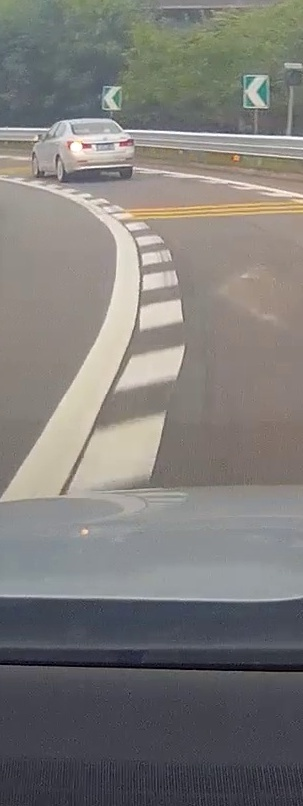L_light: (68, 141, 91, 151)
R_light: (119, 138, 134, 146)
T_light: (92, 130, 103, 133)
day-left: (66, 118, 135, 182)
